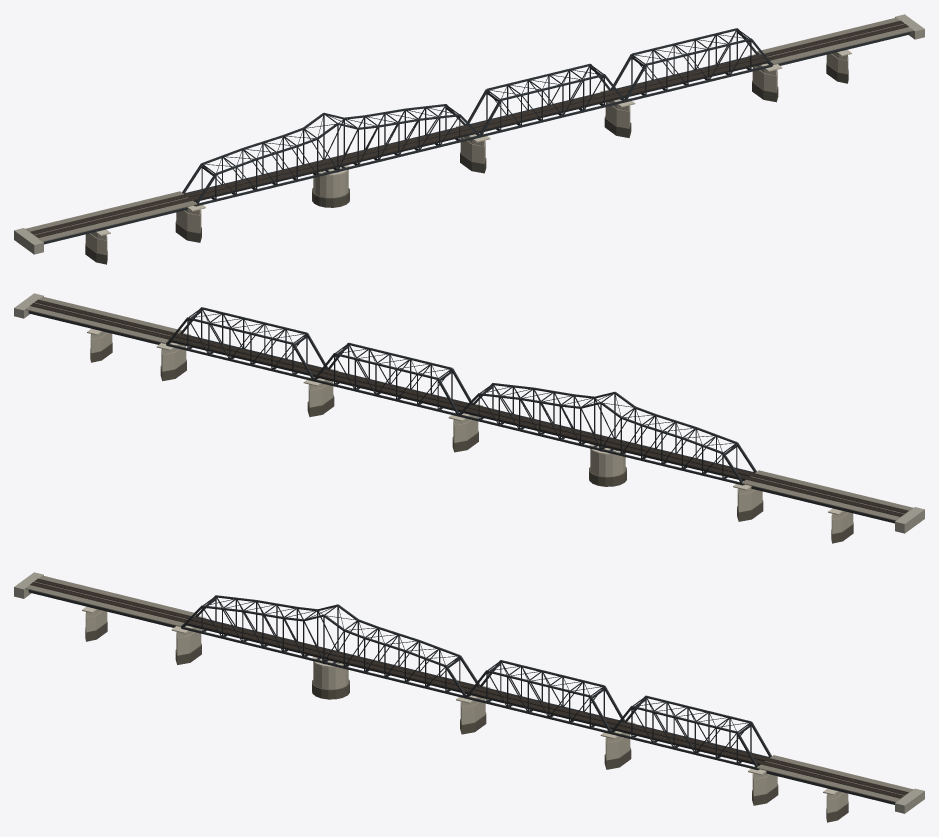
The model's file is baring-cross-bridge.glb.
3 views of the same model, one above another, from view 1: azimuth 30°, elevation 25°; view 2: azimuth 150°, elevation 25°; view 3: azimuth 330°, elevation 25° (orthographic).
Parts seen in each view (by area): view 1: baring_steel2, baring_steel, baring_tie, baring_rail, baring_pier, baring_ballast, baring_wet, baring_concrete, baring_cap; view 2: baring_steel2, baring_steel, baring_tie, baring_rail, baring_pier, baring_ballast, baring_wet, baring_concrete, baring_cap; view 3: baring_steel2, baring_steel, baring_tie, baring_rail, baring_pier, baring_ballast, baring_wet, baring_concrete, baring_cap.
Part boxes in pixels (left/top/right/bottom): baring_steel2: left=189, top=29, right=769, bottom=205; baring_steel: left=43, top=28, right=910, bottom=244; baring_tie: left=30, top=20, right=908, bottom=237; baring_rail: left=31, top=20, right=907, bottom=237; baring_pier: left=85, top=52, right=848, bottom=254; baring_ballast: left=25, top=17, right=913, bottom=241; baring_wet: left=85, top=63, right=848, bottom=264; baring_concrete: left=14, top=14, right=924, bottom=254; baring_cap: left=95, top=49, right=851, bottom=235; baring_steel2: left=169, top=308, right=749, bottom=484; baring_steel: left=28, top=307, right=895, bottom=523; baring_tie: left=30, top=299, right=908, bottom=516; baring_rail: left=31, top=299, right=907, bottom=516; baring_pier: left=90, top=331, right=853, bottom=533; baring_ballast: left=25, top=296, right=913, bottom=520; baring_wet: left=90, top=342, right=853, bottom=543; baring_concrete: left=14, top=293, right=924, bottom=533; baring_cap: left=87, top=328, right=843, bottom=514; baring_steel2: left=184, top=596, right=764, bottom=769; baring_steel: left=28, top=590, right=894, bottom=804; baring_tie: left=30, top=578, right=908, bottom=798; baring_rail: left=31, top=578, right=908, bottom=797; baring_pier: left=85, top=609, right=848, bottom=812; baring_ballast: left=25, top=575, right=913, bottom=802; baring_wet: left=85, top=621, right=848, bottom=822; baring_concrete: left=14, top=572, right=924, bottom=813; baring_cap: left=82, top=606, right=838, bottom=795.
Size of the model in its own units: 357 by 31.28 by 16.
